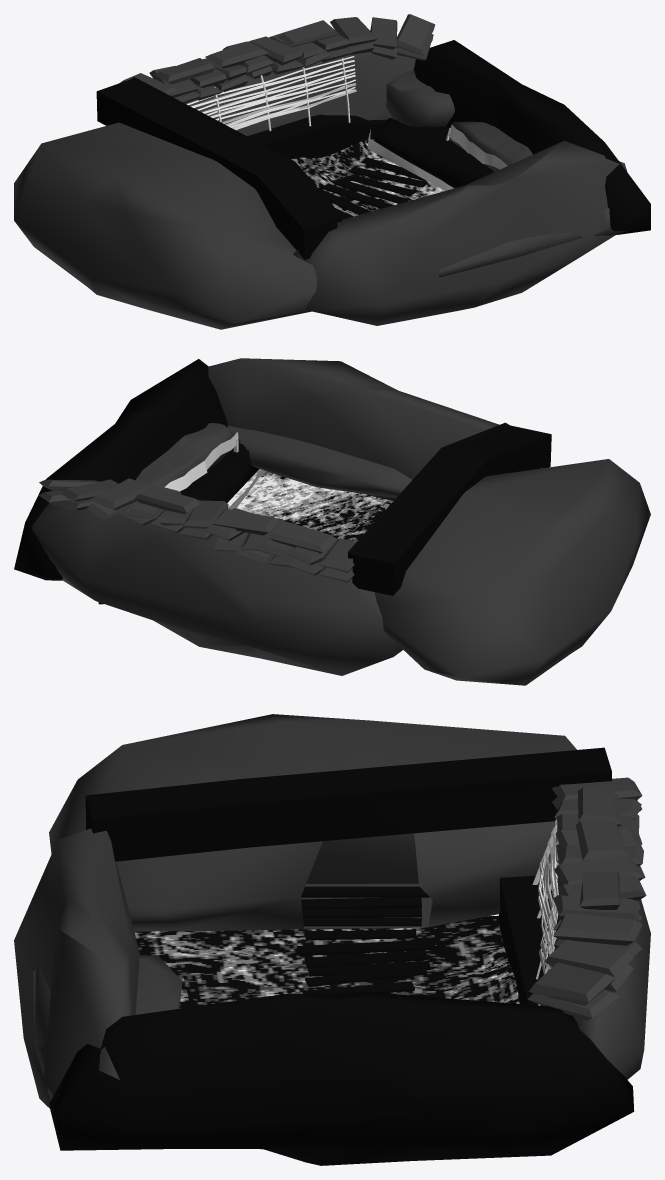
Rendered from trench_4.fbx.
3 renders of one model, top to bottom at view 1: azimuth 30°, elevation 25°; view 2: azimuth 150°, elevation 25°; view 3: azimuth 270°, elevation 25°, orthographic. The views are drawn at different scales.
Parts seen in each view (by area): view 1: polySurface228; view 2: polySurface228; view 3: polySurface228.
Part boxes in pixels (<box>): polySurface228: <box>14,14,650,329</box>; polySurface228: <box>14,358,650,685</box>; polySurface228: <box>14,714,650,1165</box>.
Bounding box in the file's own units: 23.34 × 6.23 × 17.73.
Materials: 10 (5 with a texture image).
